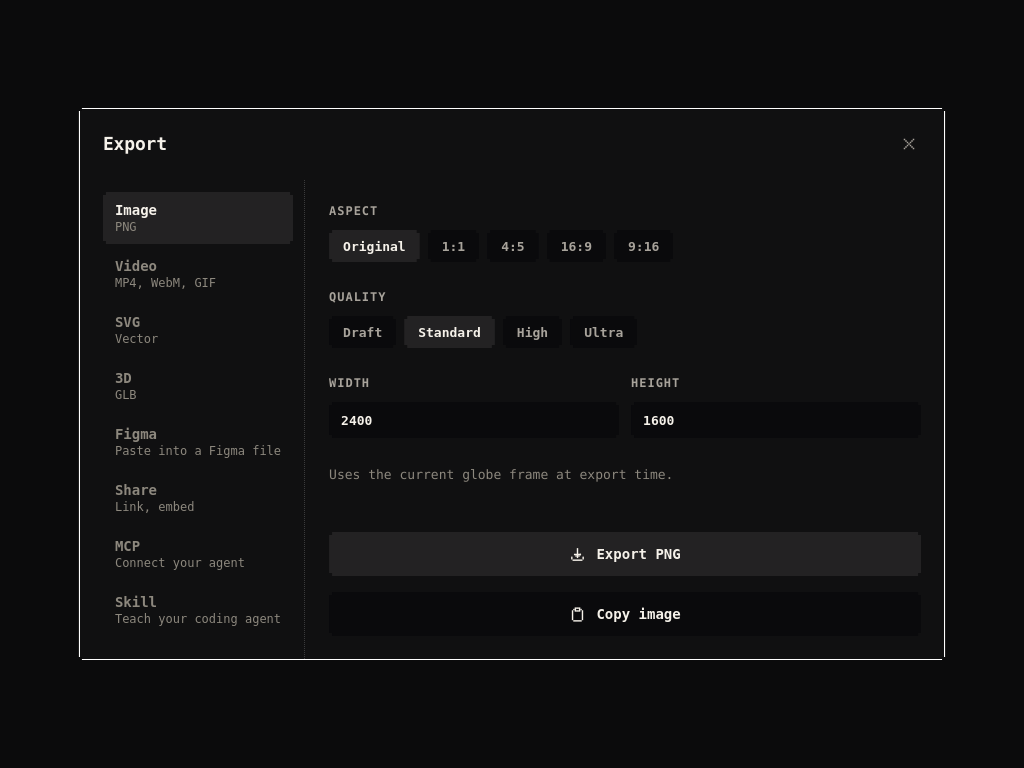
ExportModal › says MP4 can't keep a transparent background, and only then
Step 1. Click the tab "Video MP4, WebM, GIF" → (198, 274), box [103,248,293,300]
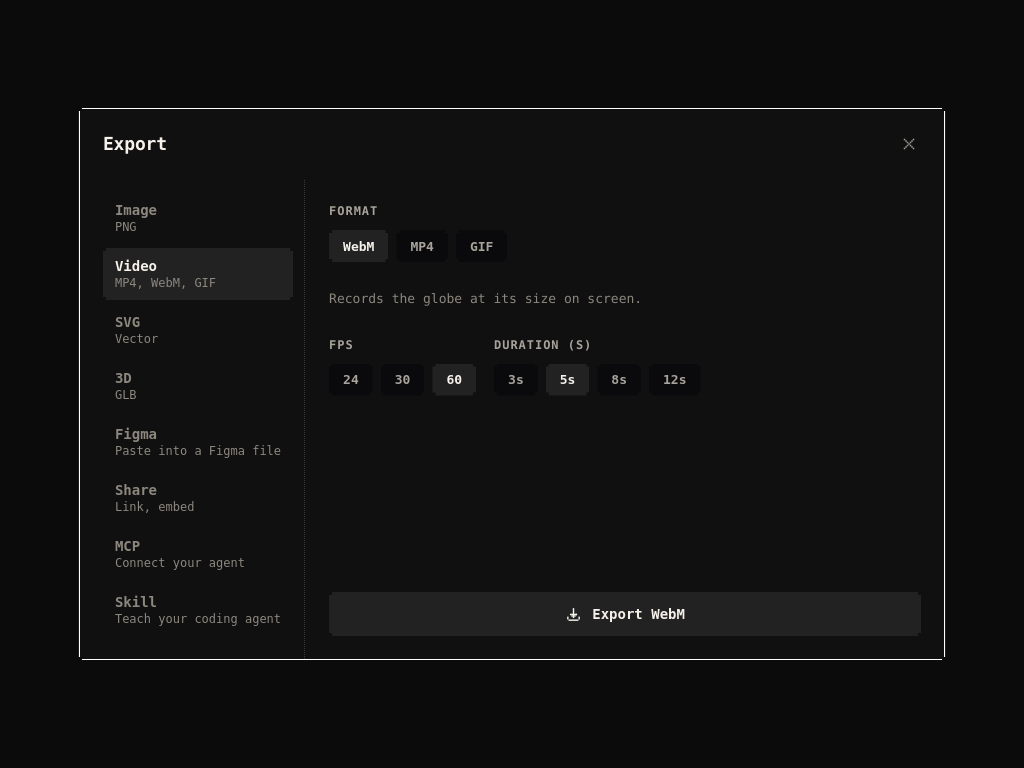
Expected: the text "MP4 has no transparency. Use WebM or PNG." is not shown
Step 2. Click the button "MP4" → (422, 246), box [396,230,448,262]
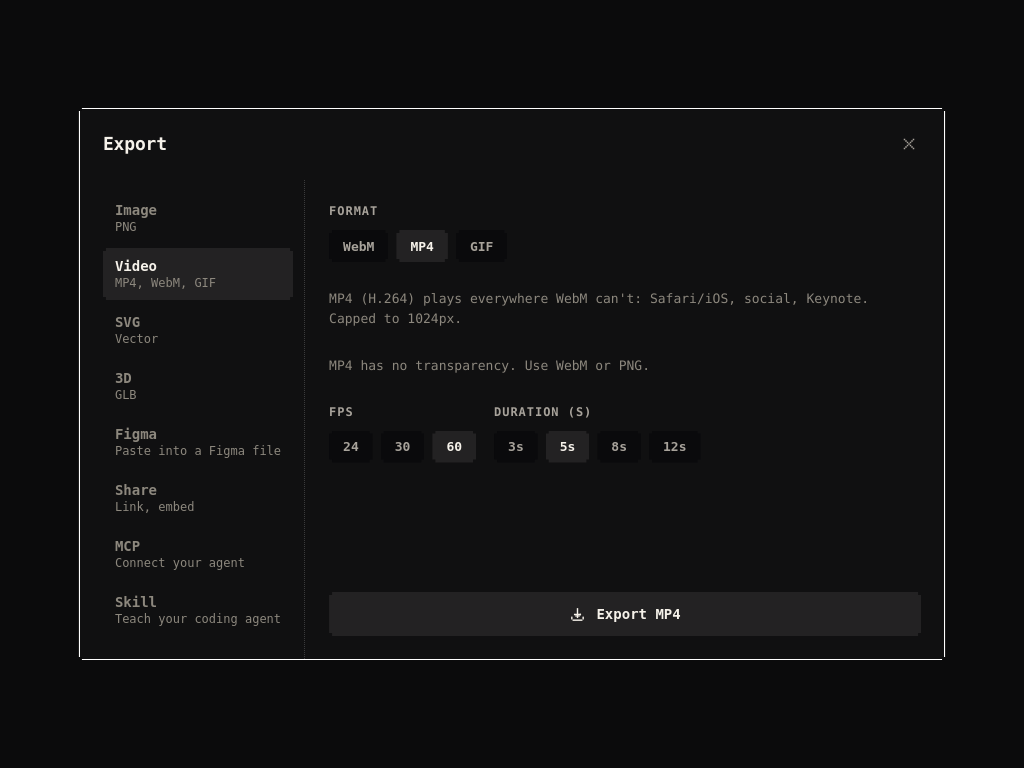
Now the text "MP4 has no transparency. Use WebM or PNG." is shown, box [329,359,650,374]
